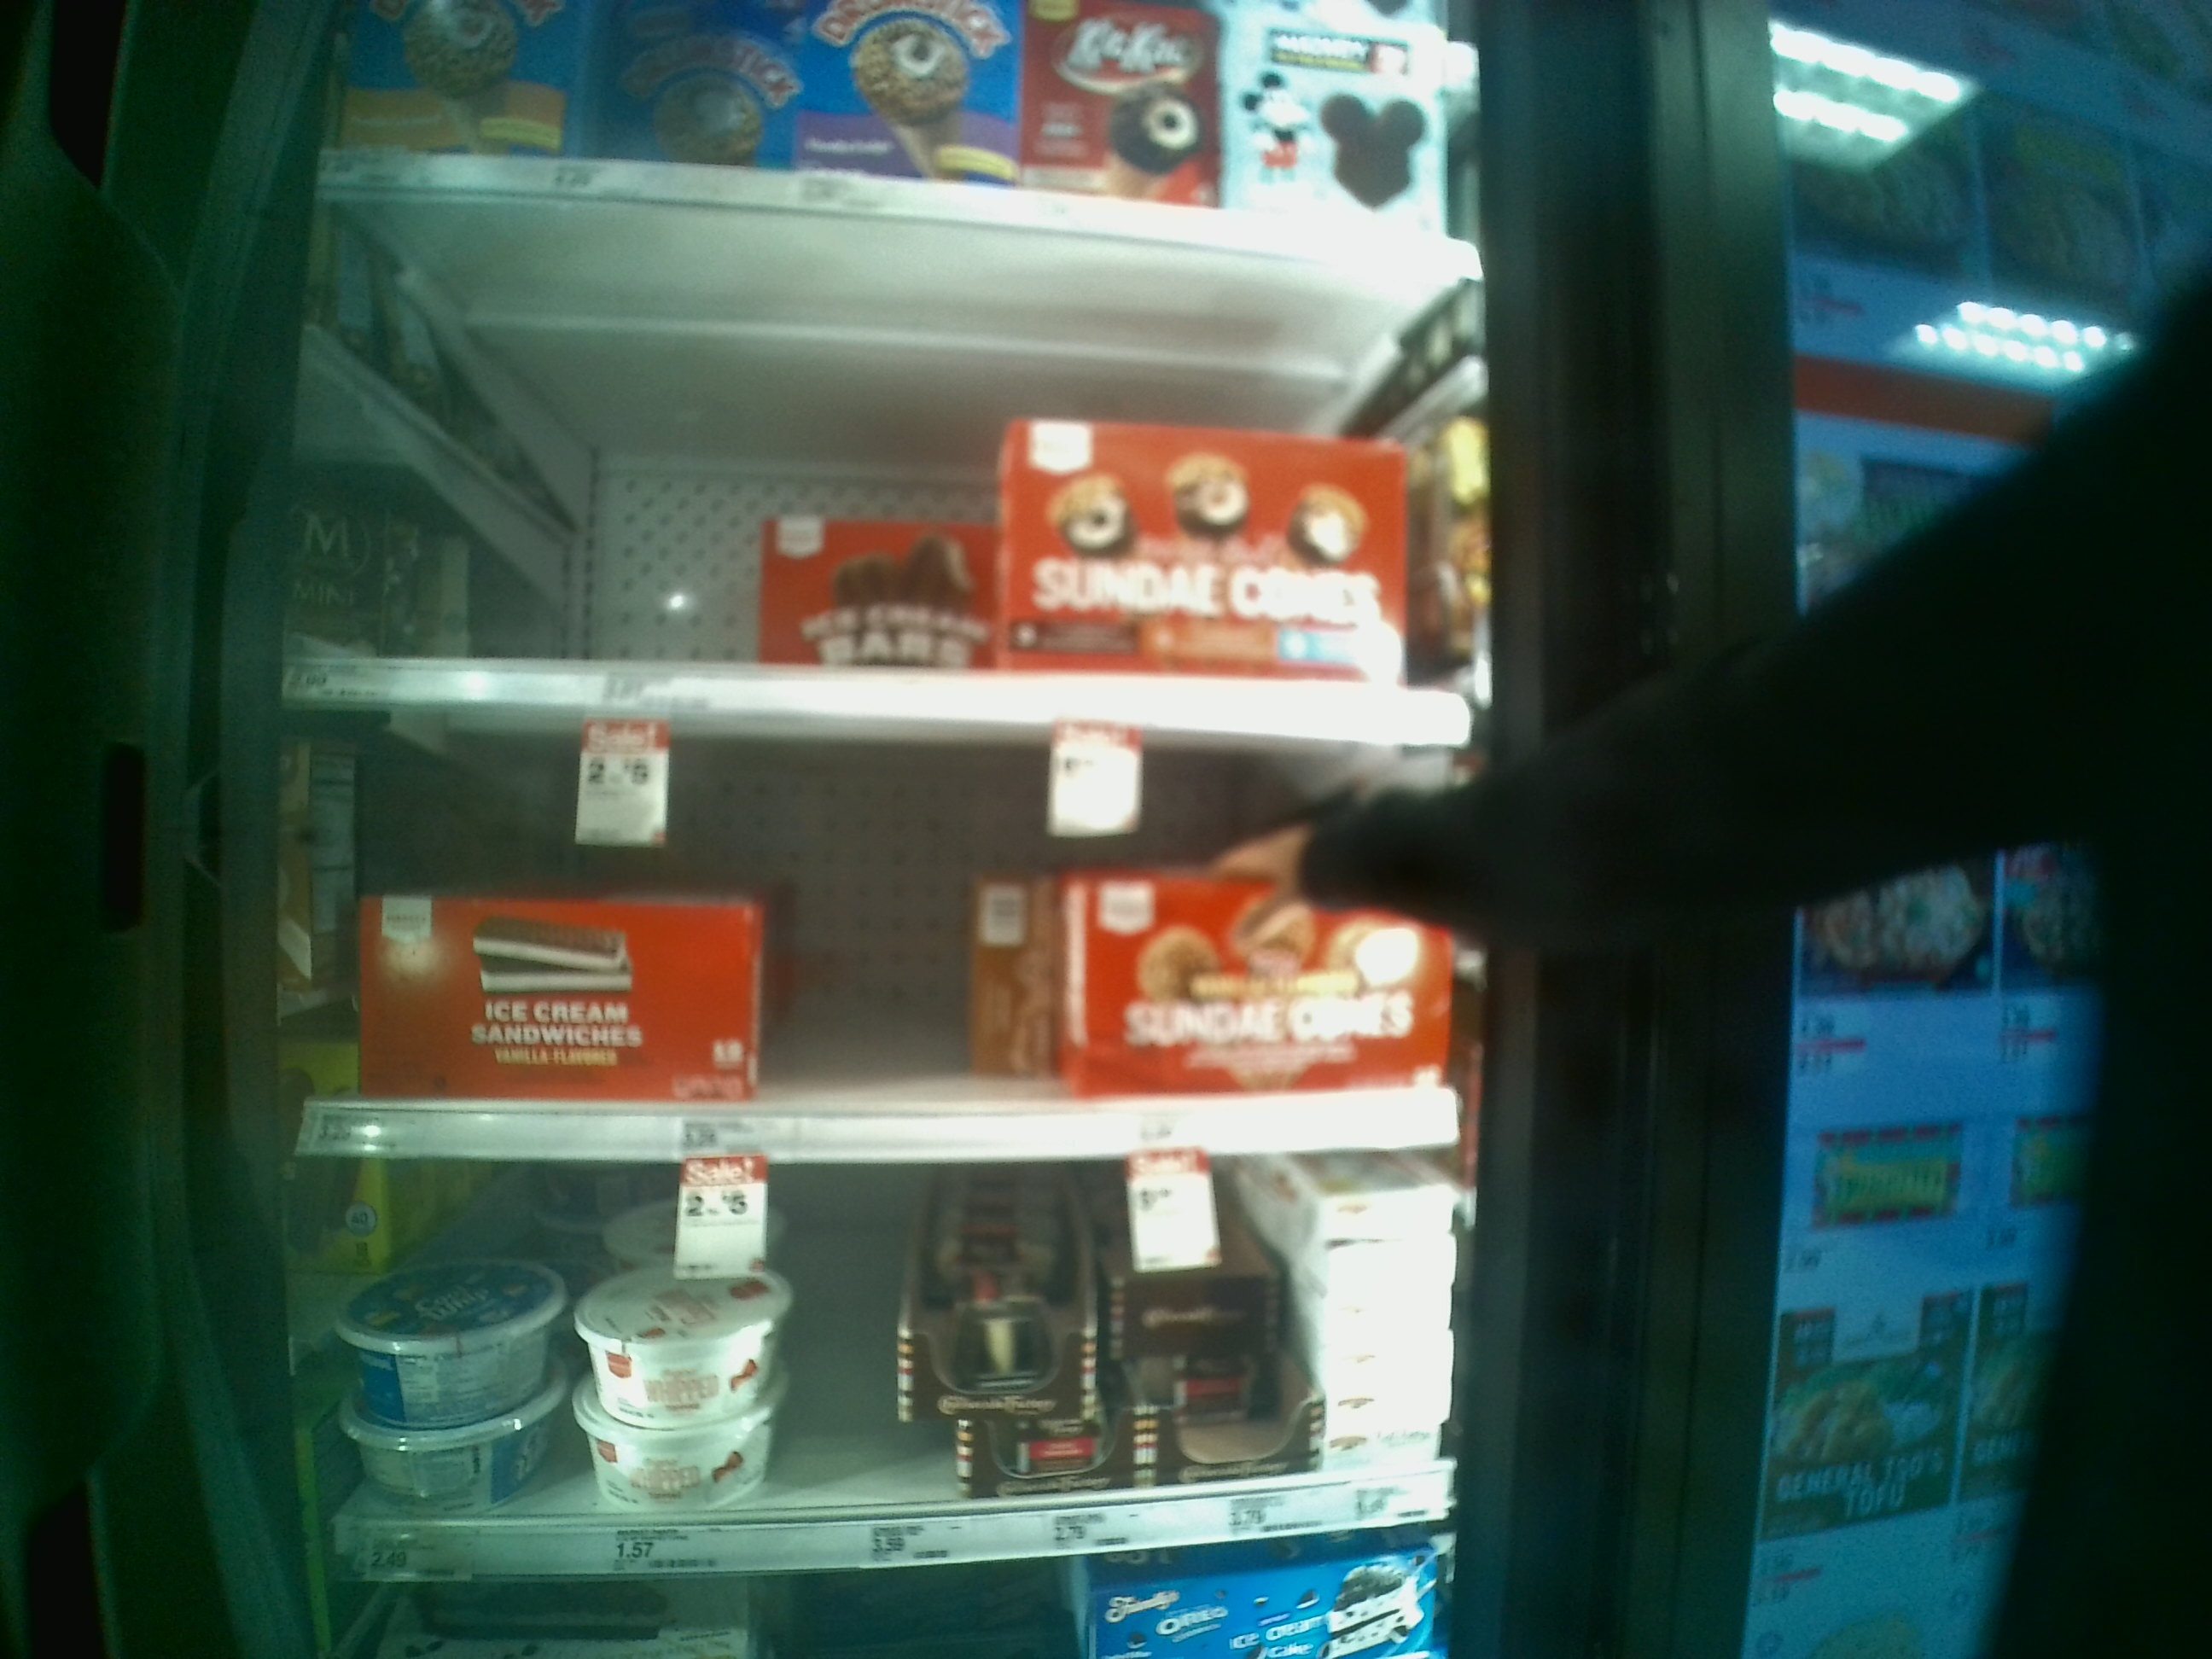shelf: (275, 193, 1484, 742), (279, 1150, 1470, 1593)
